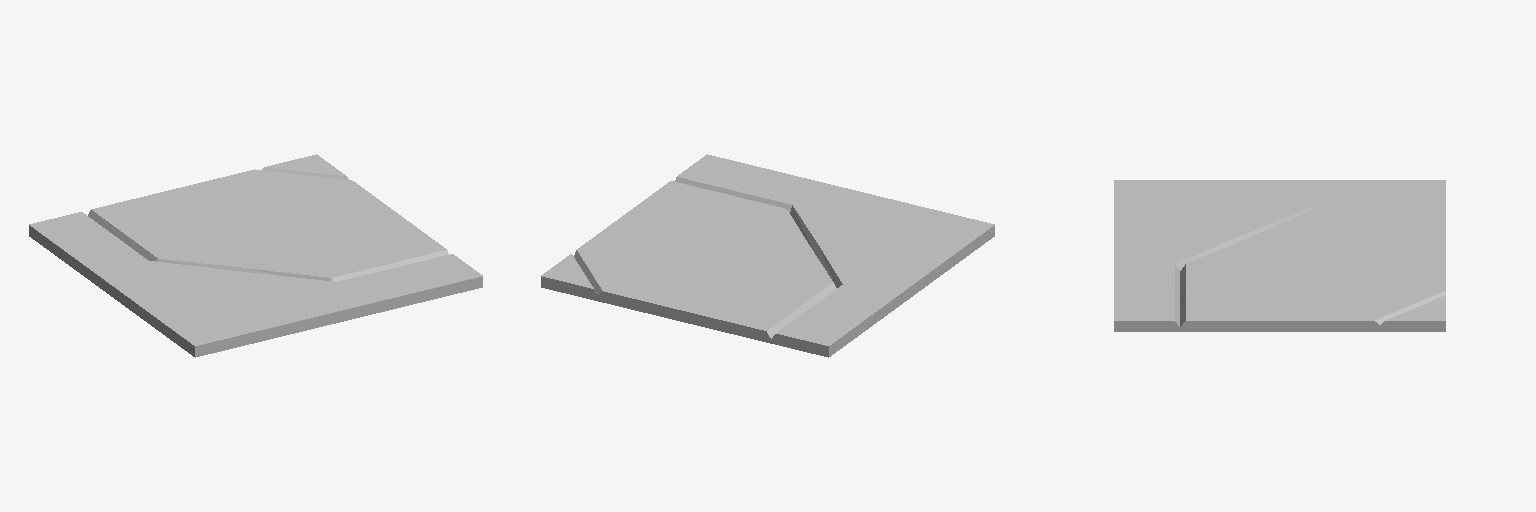
The model's file is Floor_Mid_Path_Corner_2.obj.
3 renders of one model, left to right at view 1: azimuth 30°, elevation 25°; view 2: azimuth 150°, elevation 25°; view 3: azimuth 270°, elevation 25°, orthographic.
Parts seen in each view (by area): view 1: Floor_Mid_Path_Corner_2; view 2: Floor_Mid_Path_Corner_2; view 3: Floor_Mid_Path_Corner_2.
Part boxes in pixels (bbox=[...]): Floor_Mid_Path_Corner_2: bbox=[29, 154, 482, 357]; Floor_Mid_Path_Corner_2: bbox=[541, 154, 994, 357]; Floor_Mid_Path_Corner_2: bbox=[1114, 180, 1445, 331].
Bounding box in the file's own units: 4 × 0.15 × 4.